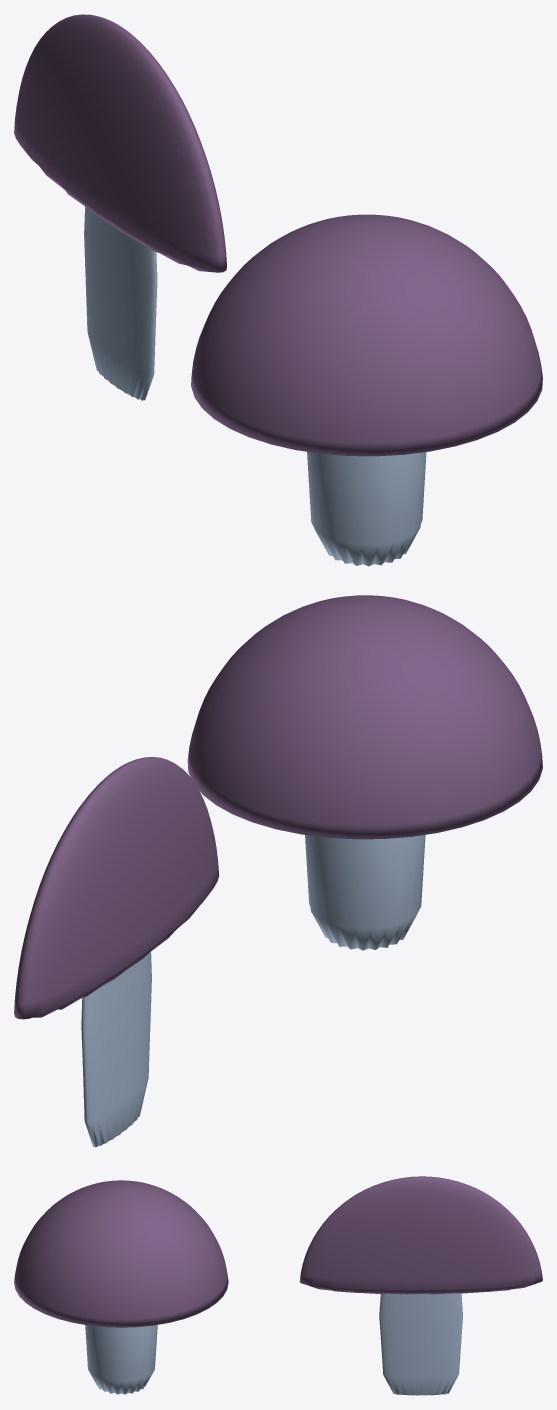
The model's file is Mushroom.fbx.
3 views of the same model, one above another, from view 1: azimuth 30°, elevation 25°; view 2: azimuth 150°, elevation 25°; view 3: azimuth 270°, elevation 25° (orthographic). The views are drawn at different scales.
Parts seen in each view (by area): view 1: Alien_Mushroom, pasted__Alien_Mushroom, Alien_Mushroon_Stem, pasted__Alien_Mushroon_Stem; view 2: Alien_Mushroom, pasted__Alien_Mushroom, Alien_Mushroon_Stem, pasted__Alien_Mushroon_Stem; view 3: Alien_Mushroom, pasted__Alien_Mushroom, pasted__Alien_Mushroon_Stem, Alien_Mushroon_Stem.
Part boxes in pixels (bbox=[...]): Alien_Mushroom: bbox=[191, 214, 542, 456]; pasted__Alien_Mushroom: bbox=[14, 14, 226, 272]; Alien_Mushroon_Stem: bbox=[307, 452, 426, 566]; pasted__Alien_Mushroon_Stem: bbox=[84, 206, 157, 400]; Alien_Mushroom: bbox=[187, 595, 542, 839]; pasted__Alien_Mushroom: bbox=[14, 757, 219, 1019]; Alien_Mushroon_Stem: bbox=[305, 835, 425, 950]; pasted__Alien_Mushroon_Stem: bbox=[81, 952, 151, 1147]; Alien_Mushroom: bbox=[14, 1180, 228, 1327]; pasted__Alien_Mushroom: bbox=[299, 1176, 542, 1294]; pasted__Alien_Mushroon_Stem: bbox=[379, 1293, 462, 1395]; Alien_Mushroon_Stem: bbox=[85, 1325, 157, 1394].
Bounding box in the file's own units: 10.9 × 12.16 × 26.87.
